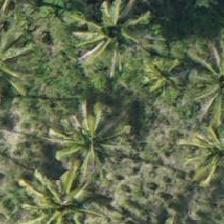coconut_tree: (122, 29, 212, 119), (37, 95, 127, 185), (55, 0, 145, 83), (13, 150, 103, 223), (175, 103, 223, 193)
